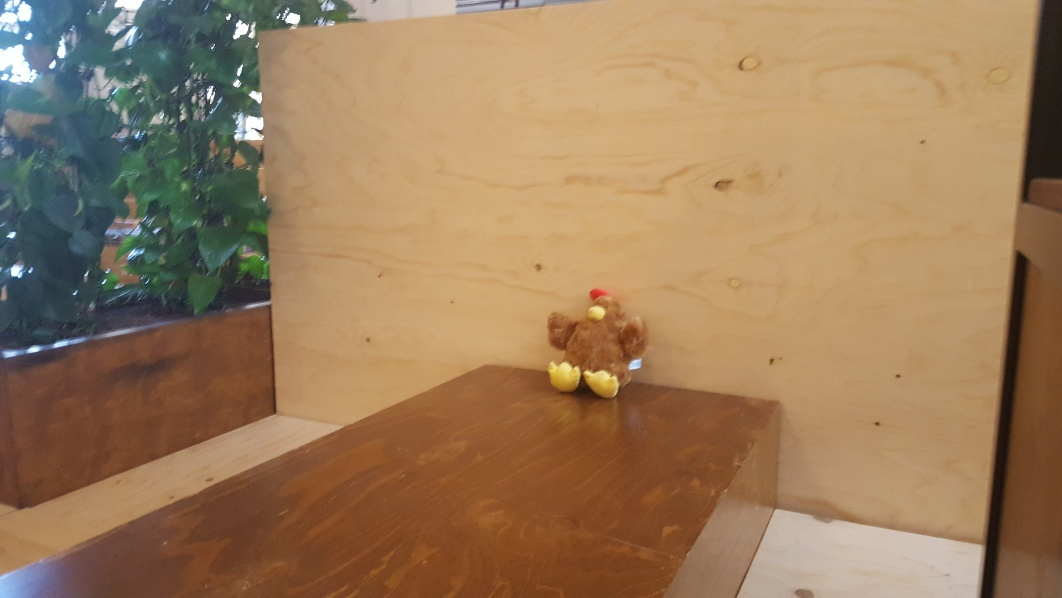chicken: (546, 286, 650, 392)
